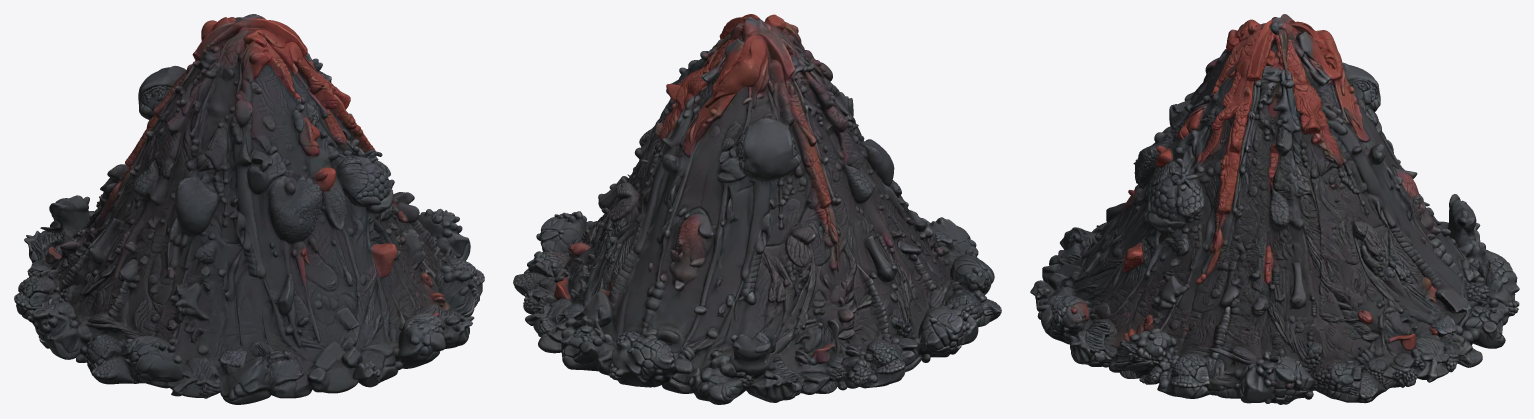
Rendered from dormant-volcano.glb.
3 views of the same model, side by side, from view 1: azimuth 30°, elevation 25°; view 2: azimuth 150°, elevation 25°; view 3: azimuth 270°, elevation 25° (orthographic).
Parts seen in each view (by area): view 1: tripo_node_96895fc2-8e19-4536-b2a5-38a38e000dc9; view 2: tripo_node_96895fc2-8e19-4536-b2a5-38a38e000dc9; view 3: tripo_node_96895fc2-8e19-4536-b2a5-38a38e000dc9.
Part boxes in pixels (<box>): tripo_node_96895fc2-8e19-4536-b2a5-38a38e000dc9: <box>14,14,484,404</box>; tripo_node_96895fc2-8e19-4536-b2a5-38a38e000dc9: <box>513,14,1001,404</box>; tripo_node_96895fc2-8e19-4536-b2a5-38a38e000dc9: <box>1030,14,1519,404</box>.
Size of the model in its own units: 0.9787 by 0.644 by 0.9791.
Materials: 1 (1 with a texture image).
